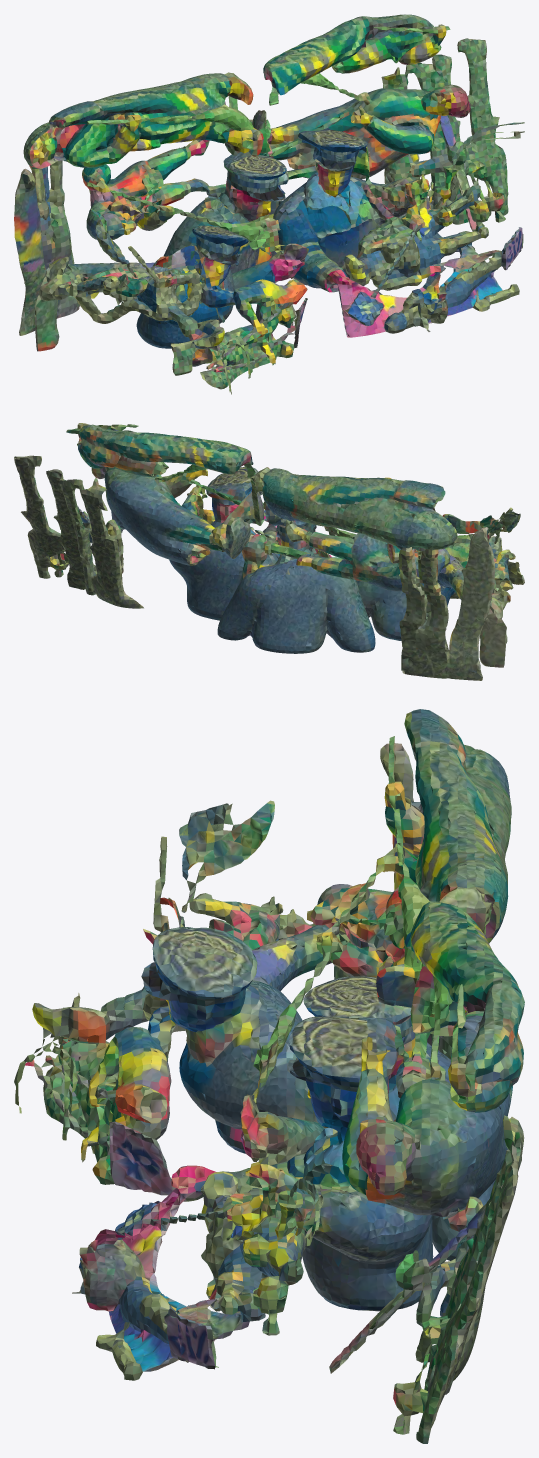
Rendered from combined_CC.glb.
The picture shows the model from 3 angles, top to bottom: view 1: azimuth 30°, elevation 25°; view 2: azimuth 150°, elevation 25°; view 3: azimuth 270°, elevation 25°; orthographic projection. The views are drawn at different scales.
Visible parts, largest first — view 1: irloCC; view 2: irloCC; view 3: irloCC.
Part boxes in pixels (left/top/right/bottom): irloCC: left=14, top=14, right=524, bottom=394; irloCC: left=14, top=423, right=524, bottom=680; irloCC: left=14, top=709, right=524, bottom=1443.
Size of the model in its own units: 0.9989 by 0.3943 by 0.5044.
1 material, 1 textured.
